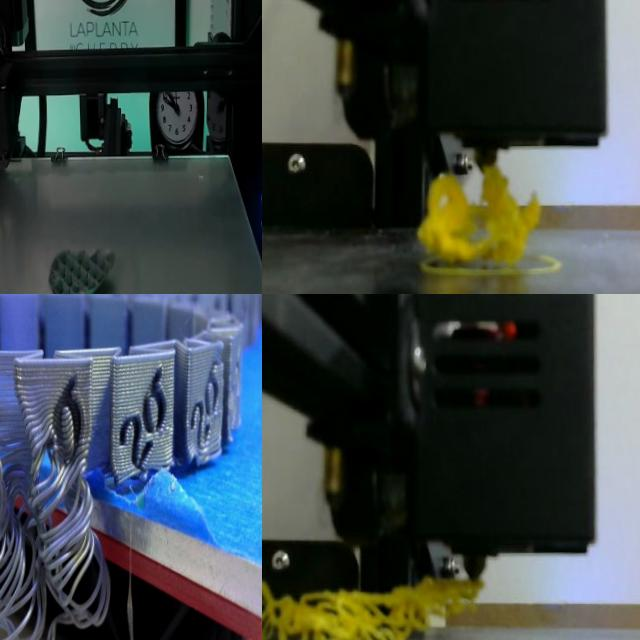spaghetti: (0, 349, 124, 640), (262, 577, 482, 640), (418, 165, 540, 264)
